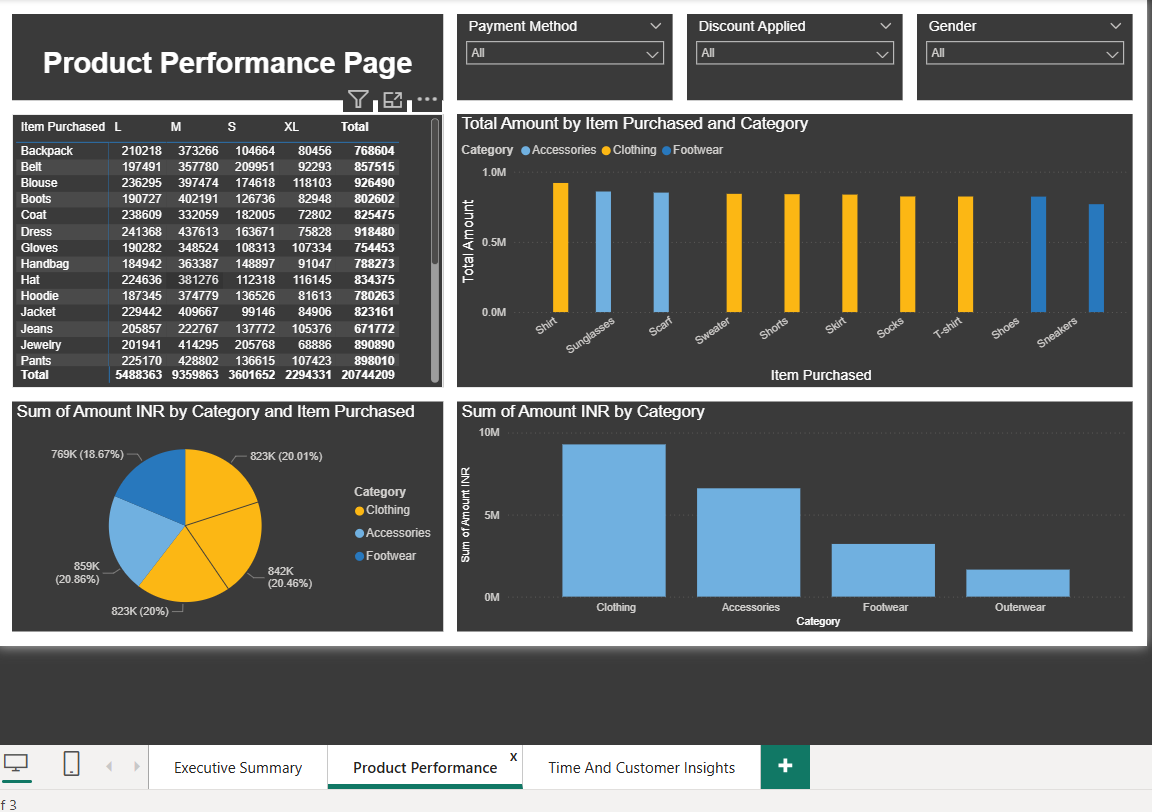

The dashboard page shown, as its layout file describes it:
{"tool":"powerbi","page":{"name":"Product Performance","canvas":[1280,720],"ordinal":1},"visuals":[{"type":"textbox","box":[16,16,480,96],"z":0},{"type":"lineClusteredColumnComboChart","title":"Revenue by Product Type & Category","fields":{"Category":["shopping_behavior_updated.Item Purchased"],"Y":["shopping_behavior_updated.Total Amount"],"Series":["shopping_behavior_updated.Category"]},"box":[512,128,752,304],"z":1000},{"type":"pivotTable","fields":{"Rows":["shopping_behavior_updated.Item Purchased"],"Values":["Sum(shopping_behavior_updated.Amount INR)"],"Columns":["shopping_behavior_updated.Size"]},"box":[16,128,480,304],"z":2000},{"type":"pieChart","title":"Revenue Contribution by Category","fields":{"Category":["shopping_behavior_updated.Category"],"Y":["Sum(shopping_behavior_updated.Amount INR)"],"Series":["shopping_behavior_updated.Item Purchased"]},"box":[16,448,480,256],"z":3000},{"type":"clusteredColumnChart","title":"Total Revenue by Category","fields":{"Y":["Sum(shopping_behavior_updated.Amount INR)"],"Category":["shopping_behavior_updated.Category"]},"box":[512,448,752,256],"z":4000},{"type":"slicer","fields":{"Values":["shopping_behavior_updated.Payment Method"]},"box":[512,16,240,96],"z":5000},{"type":"slicer","fields":{"Values":["shopping_behavior_updated.Discount Applied"]},"box":[768,16,240,96],"z":6000},{"type":"slicer","fields":{"Values":["shopping_behavior_updated.Gender"]},"box":[1024,16,240,96],"z":7000}]}

Visuals, with their boxes on the page's 1280x720 design canvas (x1, y1, x2, y2). These are canvas units, not pixel positions in the 1152x812 screenshot, which may show the page scaled, cropped or inside an application window:
textbox: {"left": 16, "top": 16, "right": 496, "bottom": 112}
"Revenue by Product Type & Category" lineClusteredColumnComboChart: {"left": 512, "top": 128, "right": 1264, "bottom": 432}
pivotTable - shopping_behavior_updated.Item Purchased x Sum(shopping_behavior_updated.Amount INR): {"left": 16, "top": 128, "right": 496, "bottom": 432}
"Revenue Contribution by Category" pieChart: {"left": 16, "top": 448, "right": 496, "bottom": 704}
"Total Revenue by Category" clusteredColumnChart: {"left": 512, "top": 448, "right": 1264, "bottom": 704}
slicer - shopping_behavior_updated.Payment Method: {"left": 512, "top": 16, "right": 752, "bottom": 112}
slicer - shopping_behavior_updated.Discount Applied: {"left": 768, "top": 16, "right": 1008, "bottom": 112}
slicer - shopping_behavior_updated.Gender: {"left": 1024, "top": 16, "right": 1264, "bottom": 112}
